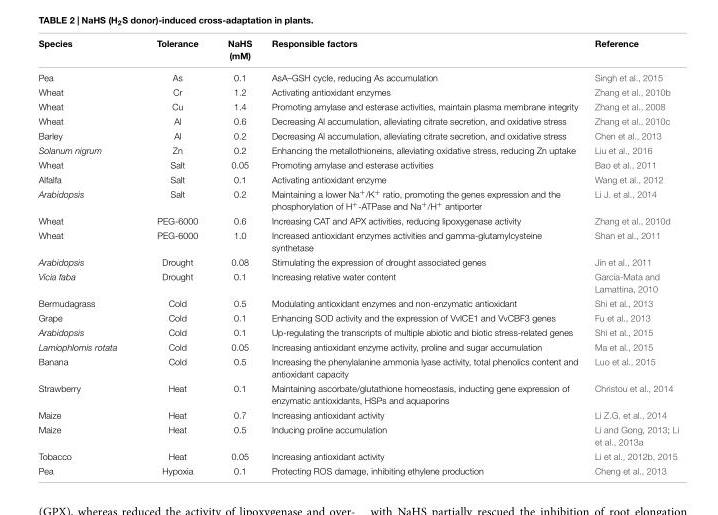table: (37, 37, 678, 475)
table column: (261, 37, 585, 475), (37, 37, 136, 475), (585, 37, 678, 475), (136, 37, 212, 475), (212, 37, 261, 475)
table column header: (37, 37, 678, 65)
table row: (37, 37, 678, 65), (37, 185, 678, 213), (37, 227, 678, 254), (37, 268, 678, 295), (37, 353, 678, 380), (37, 380, 678, 407), (37, 421, 678, 448), (37, 65, 678, 84), (37, 98, 678, 113), (37, 127, 678, 142), (37, 156, 678, 171), (37, 309, 678, 324), (37, 324, 678, 339), (37, 84, 678, 98), (37, 113, 678, 127), (37, 142, 678, 156), (37, 171, 678, 185), (37, 213, 678, 227), (37, 254, 678, 268), (37, 295, 678, 309), (37, 339, 678, 353), (37, 407, 678, 421), (37, 448, 678, 462), (37, 462, 678, 475)
